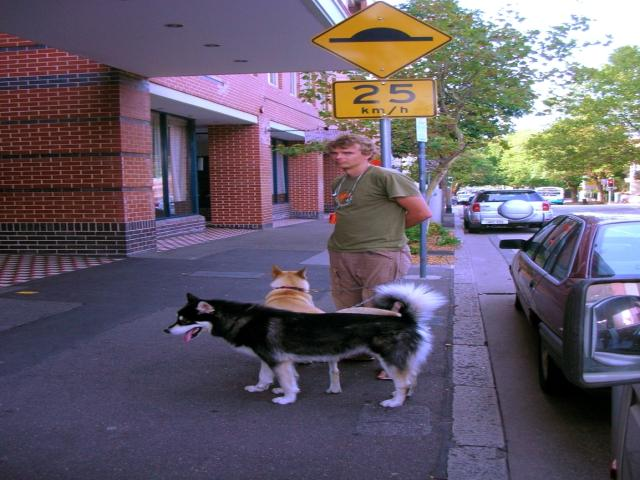Dog: (162, 281, 449, 409), (244, 267, 342, 394)
